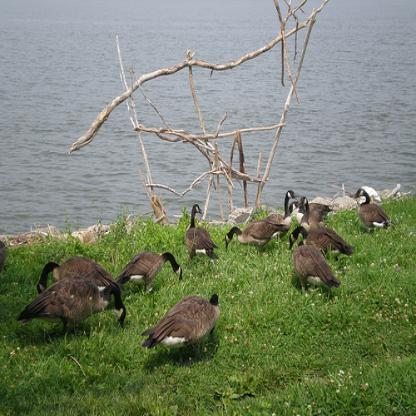bird: (16, 278, 126, 338), (142, 289, 220, 364), (34, 256, 118, 292), (117, 249, 183, 290), (286, 225, 354, 263), (290, 245, 340, 292), (223, 218, 286, 253), (184, 202, 217, 261), (353, 188, 390, 234), (266, 187, 300, 236), (297, 195, 325, 229)
